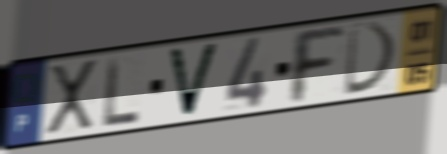4: (224, 34, 270, 111)
D: (342, 19, 401, 99)
F: (290, 24, 348, 107)
L: (102, 54, 142, 131)
V: (165, 40, 222, 120)
X: (46, 57, 99, 139)
